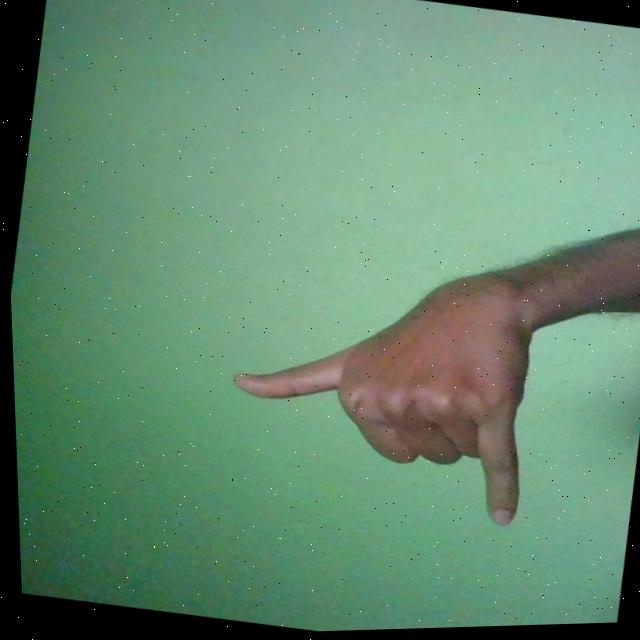Call Me: (208, 228, 553, 538)
